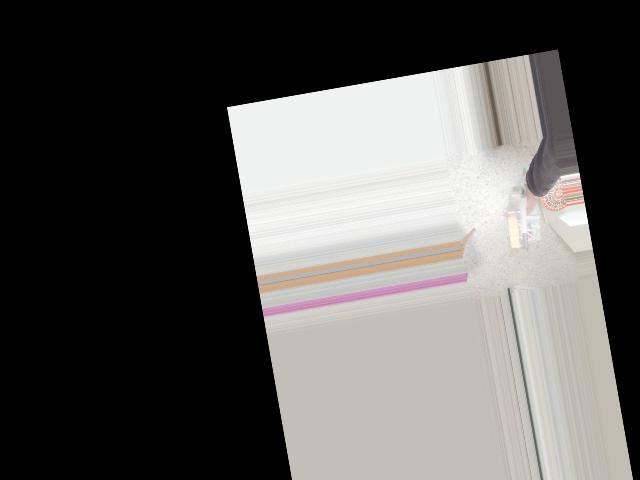cheese: (485, 191, 568, 255)
